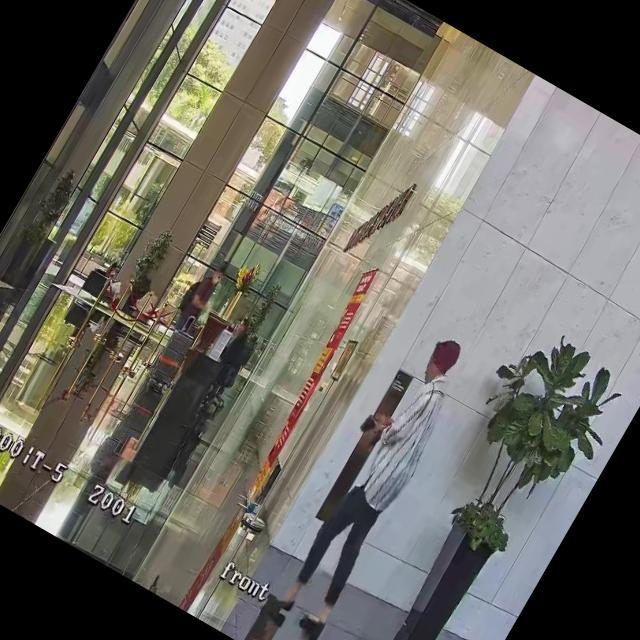person: (264, 323, 482, 634), (195, 314, 264, 410), (170, 253, 233, 335), (90, 260, 136, 312)
